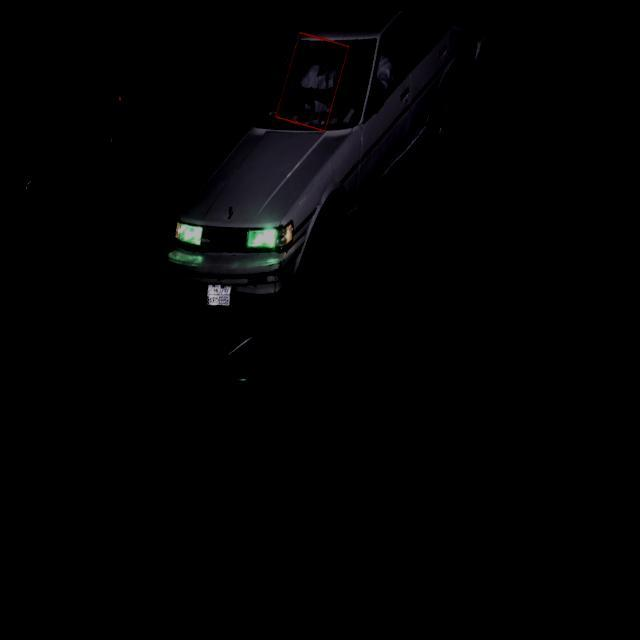windshield: (246, 34, 382, 132)
